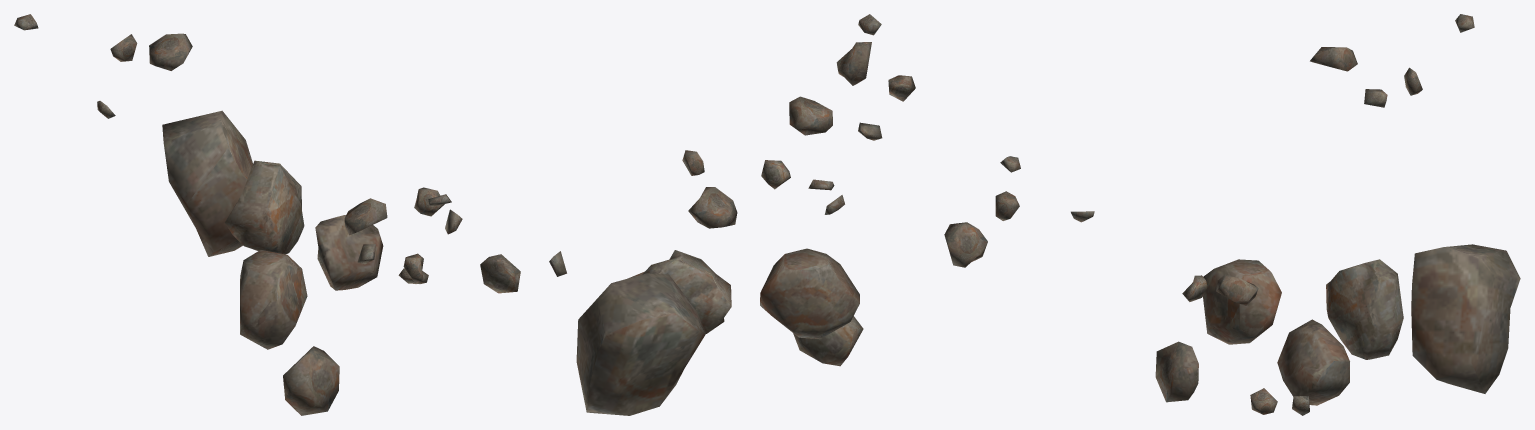
File: bg_rad_kamen_rockdeco01c_sm.obj
3 renders of one model, left to right at view 1: azimuth 30°, elevation 25°; view 2: azimuth 150°, elevation 25°; view 3: azimuth 270°, elevation 25°, orthographic. The views are drawn at different scales.
Parts seen in each view (by area): view 1: bg_rad_kamen_rockdeco01c_sm_0; view 2: bg_rad_kamen_rockdeco01c_sm_0; view 3: bg_rad_kamen_rockdeco01c_sm_0.
Part boxes in pixels (x1=…): bg_rad_kamen_rockdeco01c_sm_0: x1=14, y1=14, x2=520, y2=415; bg_rad_kamen_rockdeco01c_sm_0: x1=549, y1=14, x2=915, y2=415; bg_rad_kamen_rockdeco01c_sm_0: x1=944, y1=14, x2=1520, y2=415.
Bounding box in the file's own units: 0.6672 × 0.5892 × 0.9373.
Materials: 1 (1 with a texture image).
